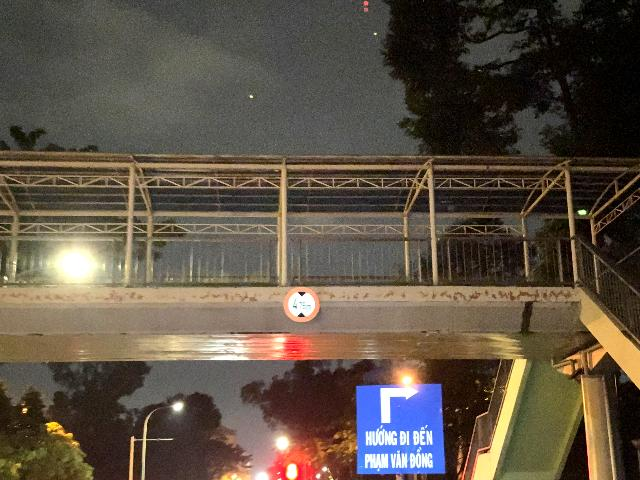han-che-chieu-cao: (284, 286, 321, 322)
